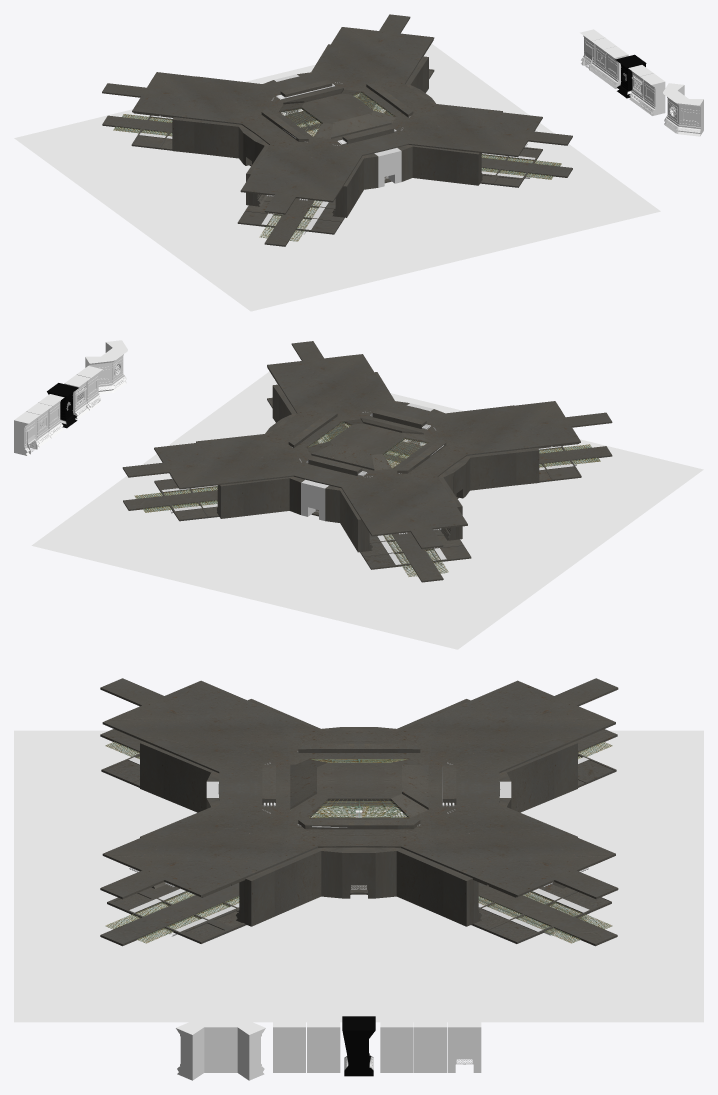
Rendered from Map2.fbx.
The picture shows the model from 3 angles, top to bottom: view 1: azimuth 30°, elevation 25°; view 2: azimuth 150°, elevation 25°; view 3: azimuth 270°, elevation 25°; orthographic projection. The views are drawn at different scales.
Visible parts, largest first — view 1: Plane, Hoctogone milieu.001, Sol, Cube.011, Sol.001, Cube.014, Cube.016, Cube.015, Cube.012, Cube.010, Plane.006, Cube.002 (+8 smaller); view 2: Plane, Hoctogone milieu.001, Sol, Cube.011, Sol.001, Cube.014, Cube.015, Cube.012, Cube.016, Cube.010, Plane.006, Cube.001 (+8 smaller); view 3: Plane, Hoctogone milieu.001, Sol, Cube.014, Sol.001, Cube.011, Cube.016, Cube.012, Cube.015, Cube.003, Cube.006, Cube.007 (+8 smaller).
Part boxes in pixels (x1,y1,x2,y2): Plane: (14,43,660,311); Hoctogone milieu.001: (102,14,572,214); Sol: (102,69,572,246); Cube.011: (218,53,457,207); Sol.001: (102,75,572,251); Cube.014: (194,65,480,196); Cube.016: (663,83,703,136); Cube.015: (196,44,482,217); Cube.012: (172,56,502,206); Cube.010: (274,74,401,187); Plane.006: (122,93,553,241); Cube.002: (640,73,665,115); Plane: (31,371,703,649); Hoctogone milieu.001: (122,341,612,549); Sol: (123,397,612,582); Cube.011: (243,381,491,541); Sol.001: (123,404,611,587); Cube.014: (219,394,516,530); Cube.015: (217,372,513,552); Cube.012: (196,384,539,540); Cube.016: (85,340,127,394); Cube.010: (301,403,433,520); Plane.006: (143,423,591,576); Cube.001: (14,411,40,455); Plane: (14,730,703,1022); Hoctogone milieu.001: (100,678,618,899); Sol: (100,729,617,946); Cube.014: (269,709,449,916); Sol.001: (101,740,616,953); Cube.011: (163,751,554,827); Cube.016: (176,1017,265,1080); Cube.012: (236,699,481,926); Cube.015: (140,741,577,888); Cube.003: (380,1017,413,1072); Cube.006: (414,1017,447,1072); Cube.007: (307,1017,340,1072).
Size of the model in its own units: 5164 by 647 by 4118.
